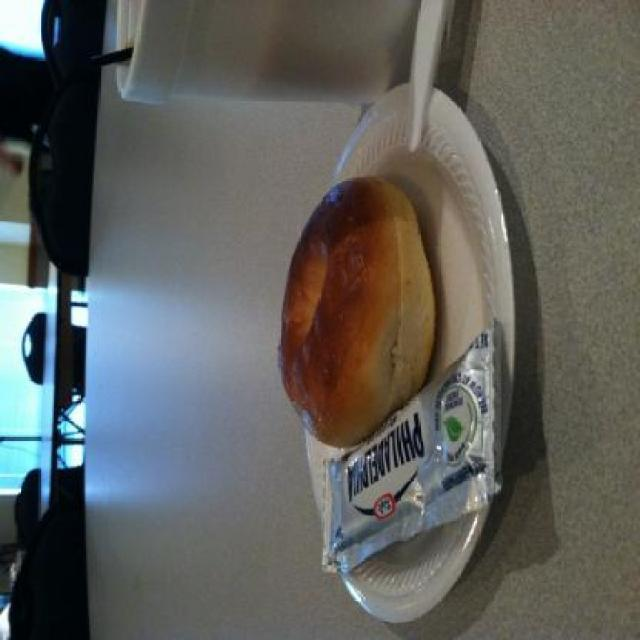Bread: (283, 171, 459, 457)
